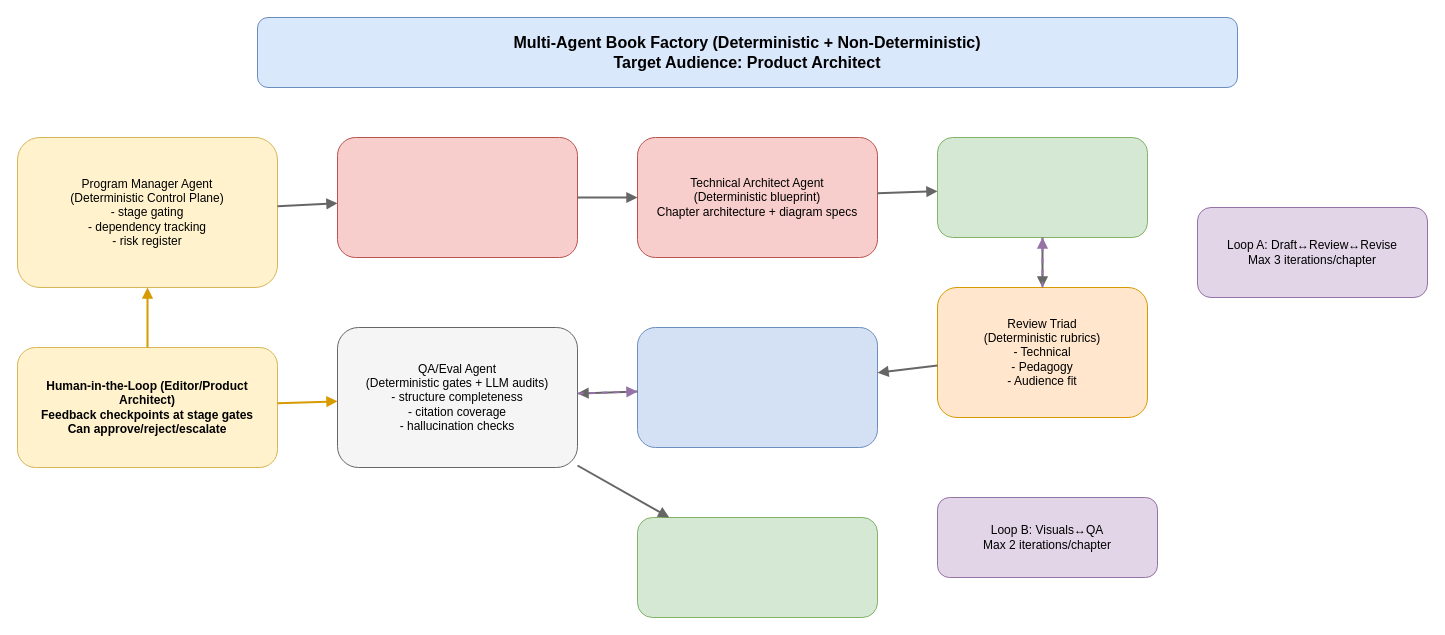
Some shapes in this 1445 by 635 pixel diagram are drawn without their labels. The box of each missing label's shape, as (x1, y1, x2, y2) in pixels:
Author Agent (Non-Deterministic) Draft generation: (936, 136, 1148, 238)
Publishing Agent (Deterministic) Package + release to target repo: (636, 516, 878, 618)
Research Synthesis Agent (Deterministic outputs) Evidence Pack + Source Index: (336, 136, 578, 258)
Visual Intelligence Agent (Hybrid) Mermaid → PlantUML → draw.io final: (636, 326, 878, 448)
